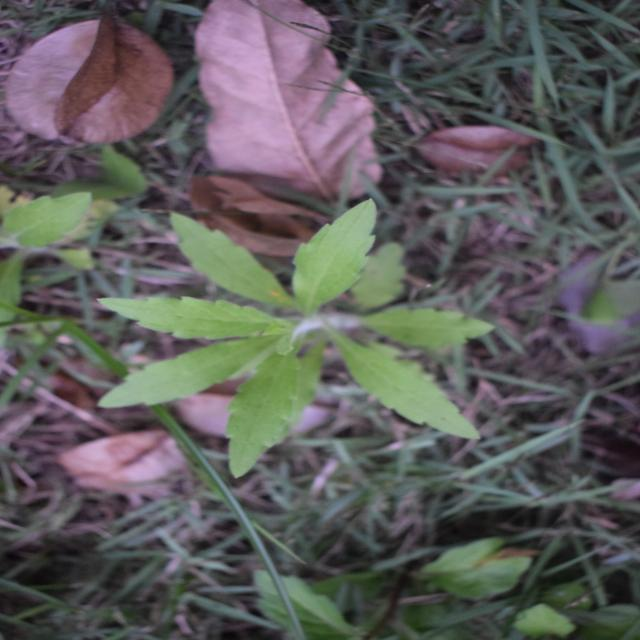horseweed: (172, 105, 433, 464)
